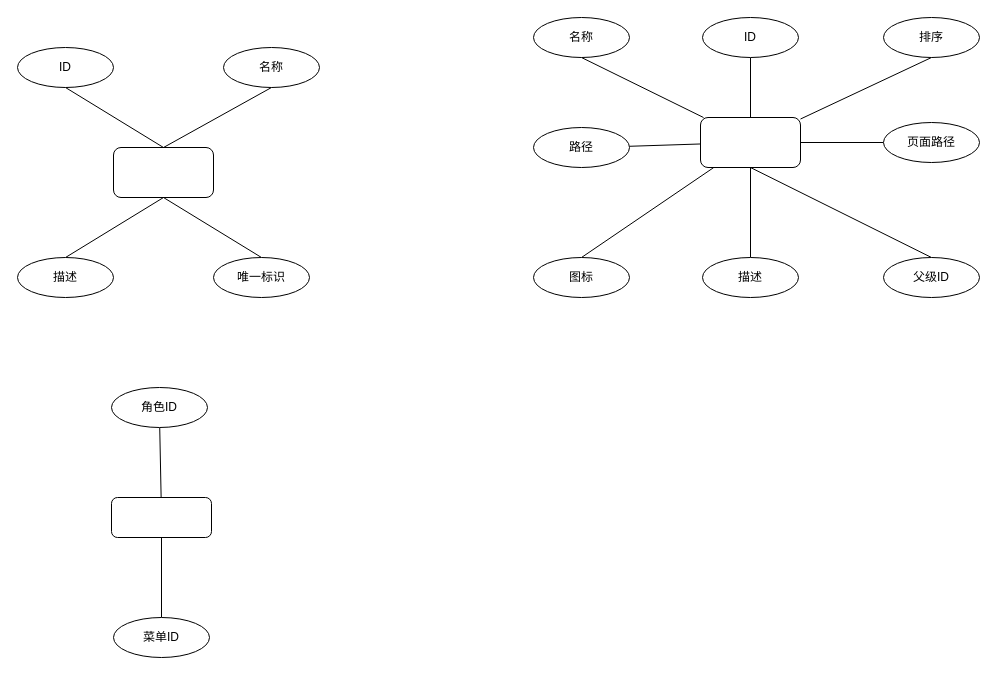
Some shapes in this 997 by 675 pixel diagram are drawn without their labels. The shapes that lost their labels are listed below. From the top down, each one's centre as x and y in pixels, then its label:
At pixel 750 142: "系统菜单".
At pixel 163 172: "角色表".
At pixel 161 517: "角色菜单（权限）关系表".
